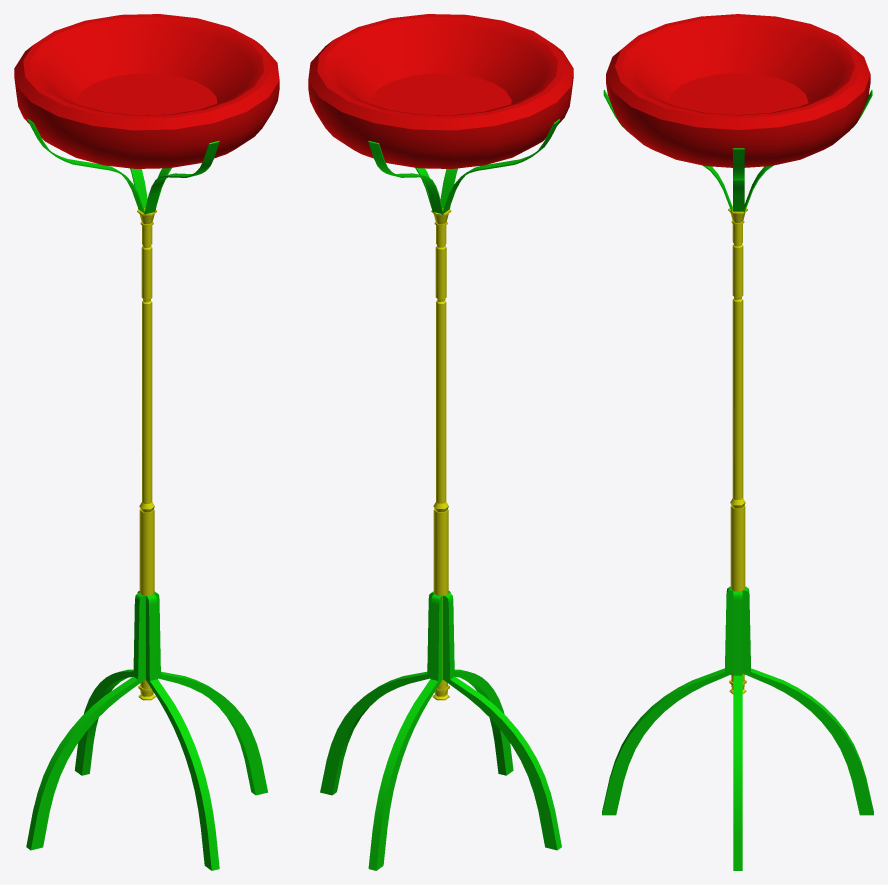
File: Antorcha de pie.fbx
The picture shows the model from 3 angles, left to right: view 1: azimuth 30°, elevation 25°; view 2: azimuth 150°, elevation 25°; view 3: azimuth 270°, elevation 25°; orthographic projection.
Visible parts, largest first — view 1: polySurface7210; view 2: polySurface7210; view 3: polySurface7210.
Part boxes in pixels (x1=…): polySurface7210: x1=14, y1=14, x2=279, y2=870; polySurface7210: x1=308, y1=14, x2=573, y2=870; polySurface7210: x1=602, y1=14, x2=873, y2=870.
Size of the model in its own units: 0.9266 by 2.81 by 0.9266.
